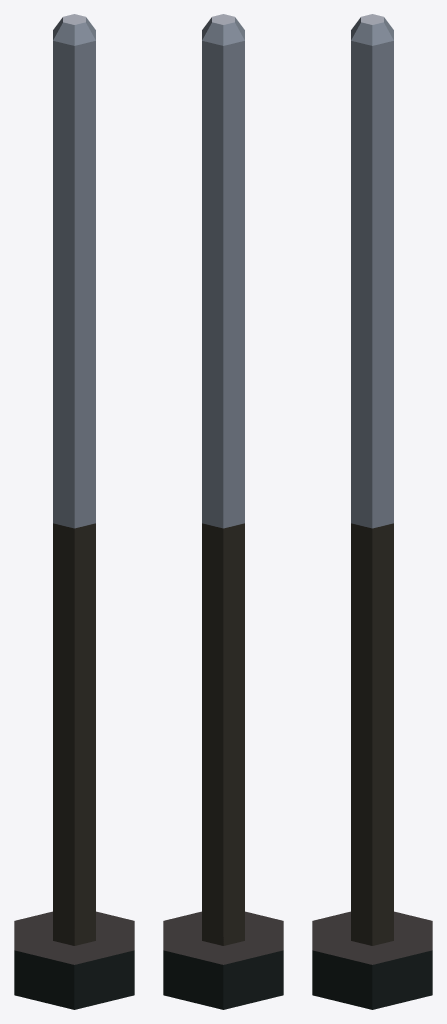
The model's file is TB_CITY_Prop_Sign_Base_A.FBX.
3 renders of one model, left to right at view 1: azimuth 30°, elevation 25°; view 2: azimuth 210°, elevation 25°; view 3: azimuth 330°, elevation 25°, orthographic.
Parts seen in each view (by area): view 1: TB_CITY_Prop_Sign_Base_A; view 2: TB_CITY_Prop_Sign_Base_A; view 3: TB_CITY_Prop_Sign_Base_A.
Part boxes in pixels (x1=…): TB_CITY_Prop_Sign_Base_A: x1=14, y1=14, x2=134, y2=1009; TB_CITY_Prop_Sign_Base_A: x1=163, y1=14, x2=283, y2=1009; TB_CITY_Prop_Sign_Base_A: x1=312, y1=14, x2=432, y2=1009.
Size of the model in its own units: 0.8444 by 6.44 by 0.7313.
